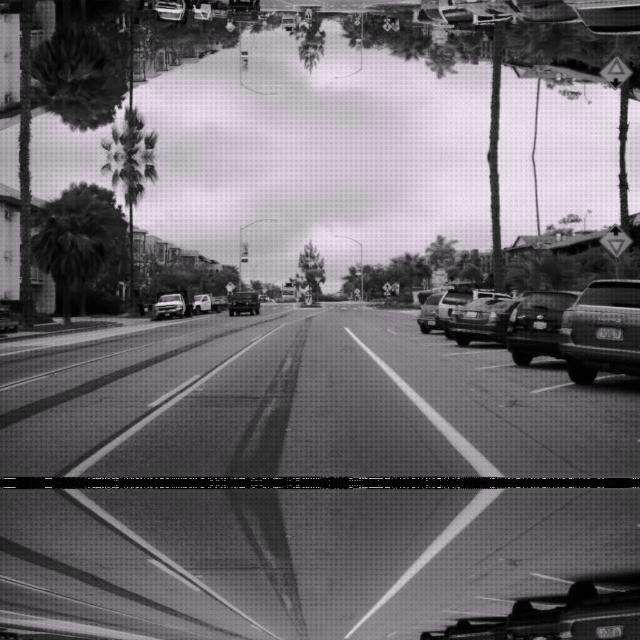pedestrianCrossing: (381, 280, 392, 292), (381, 20, 392, 32)
